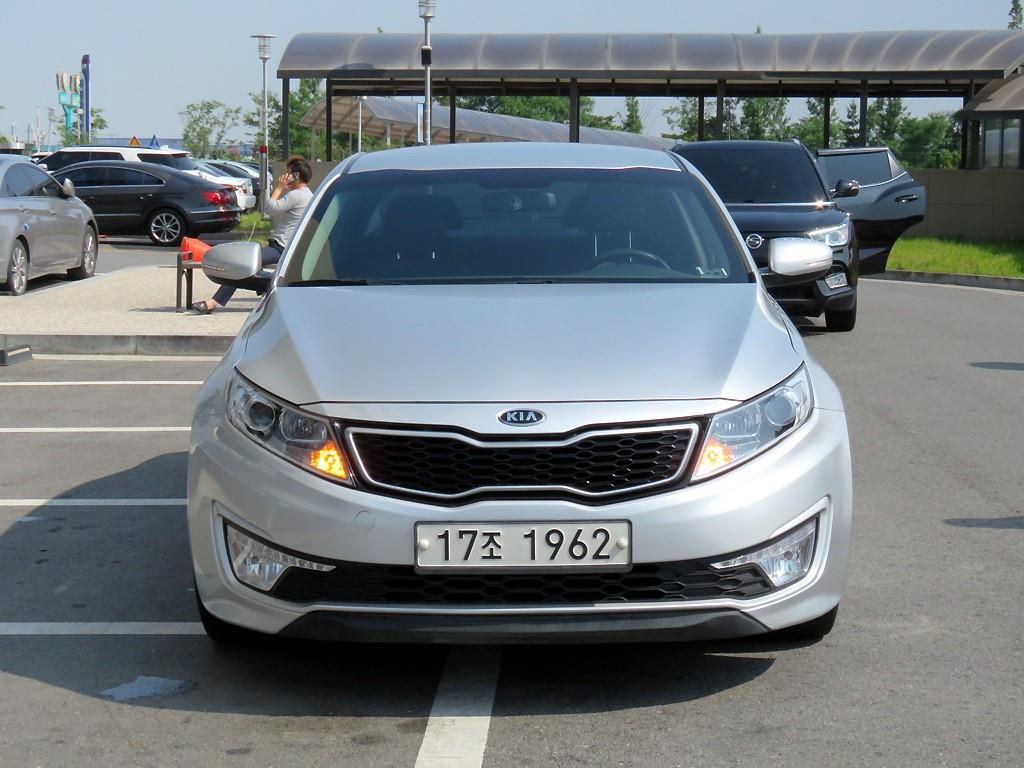plate: (418, 522, 629, 566)
